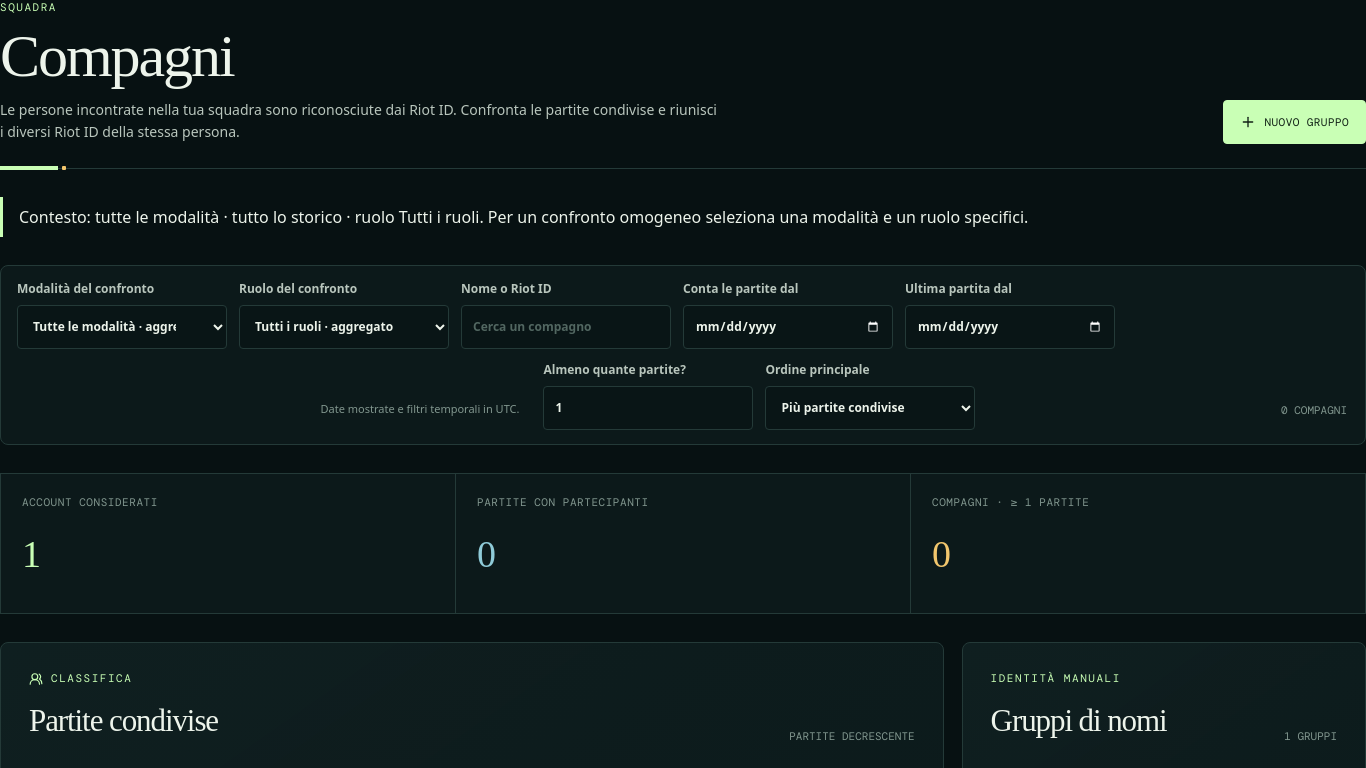
Scenario: risposte tardive dei gruppi › un errore precedente non compare nel nuovo modulo
The width and height of the screenshot is (1366, 768).
Click the button "Nuovo gruppo" at (1294, 122), box [1222,100,1365,144]
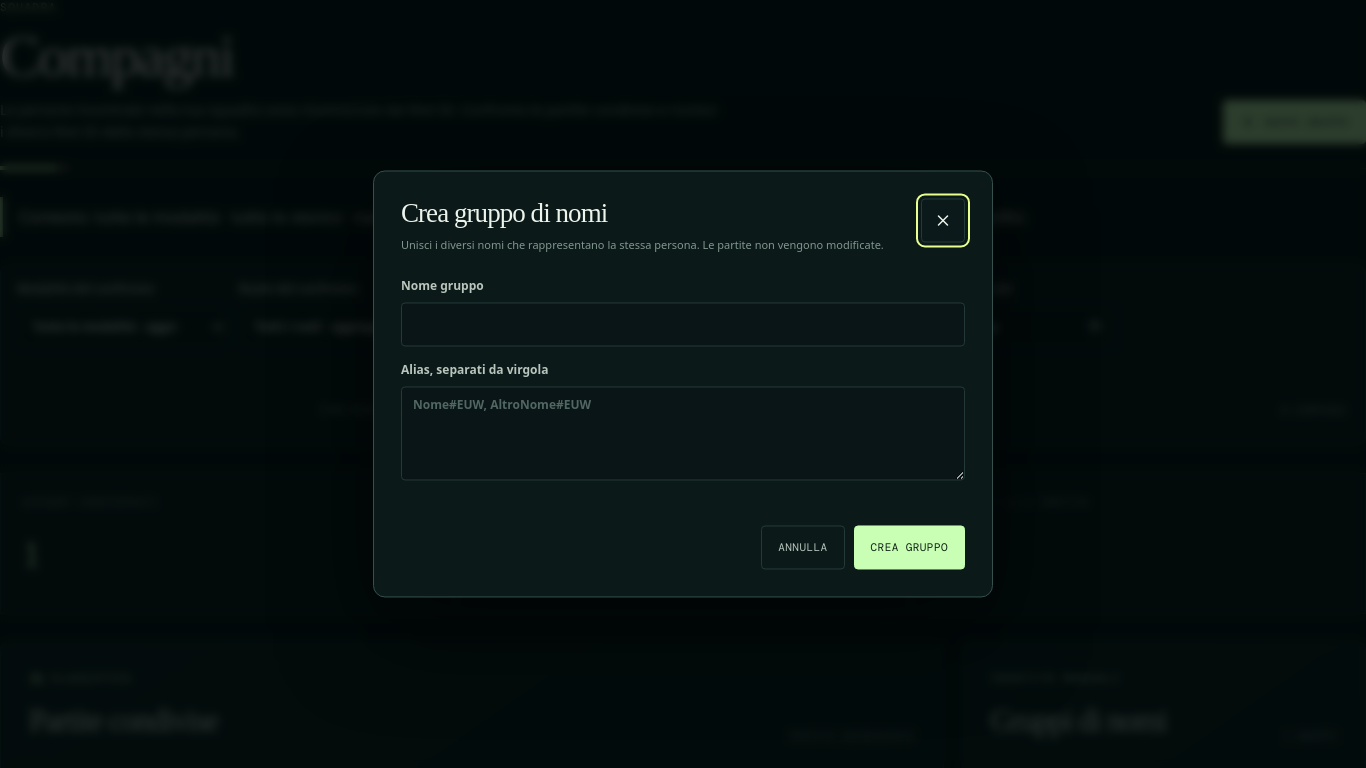
Type "Gruppo A" into the field labelled "Nome gruppo" at (683, 324), box [401,302,965,346]
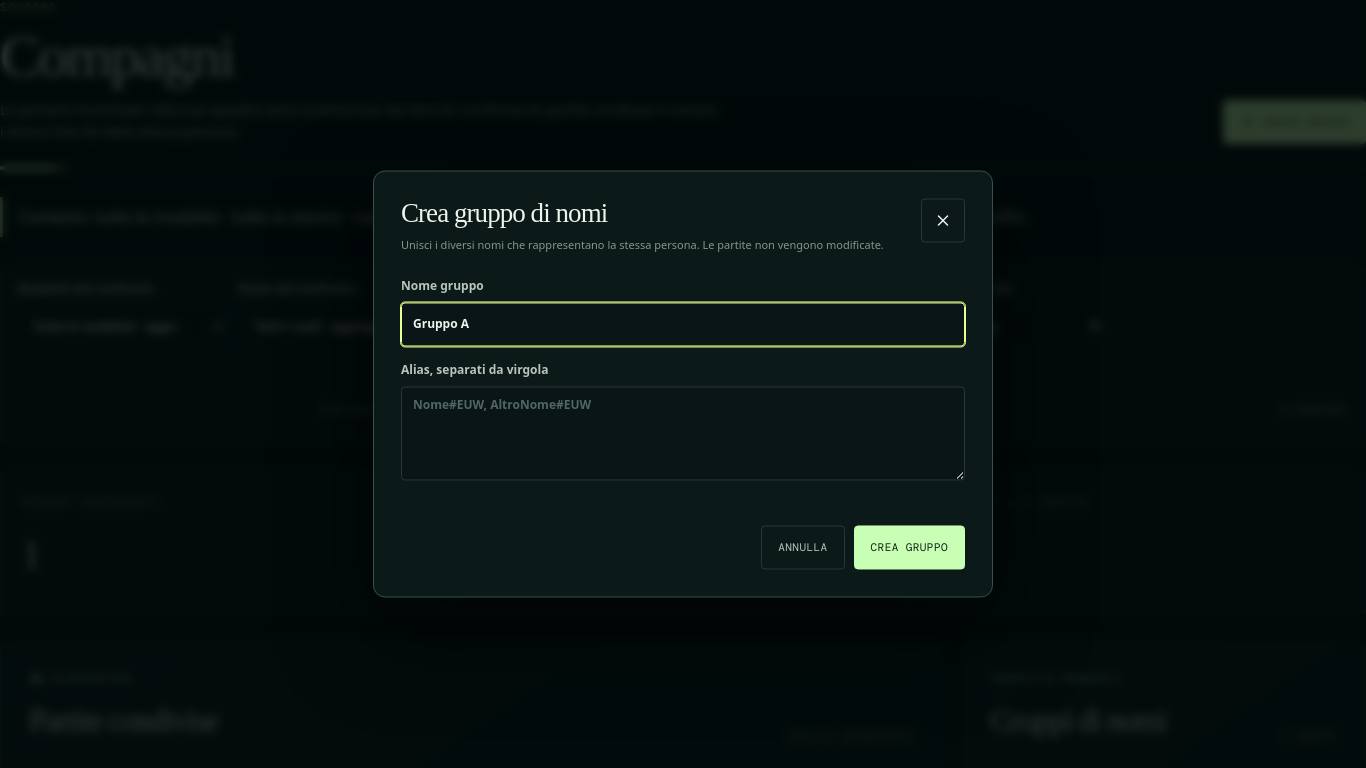
Type "A#EUW" into the text box labelled "Alias, separati da virgola" at (683, 434), box [401,386,965,480]
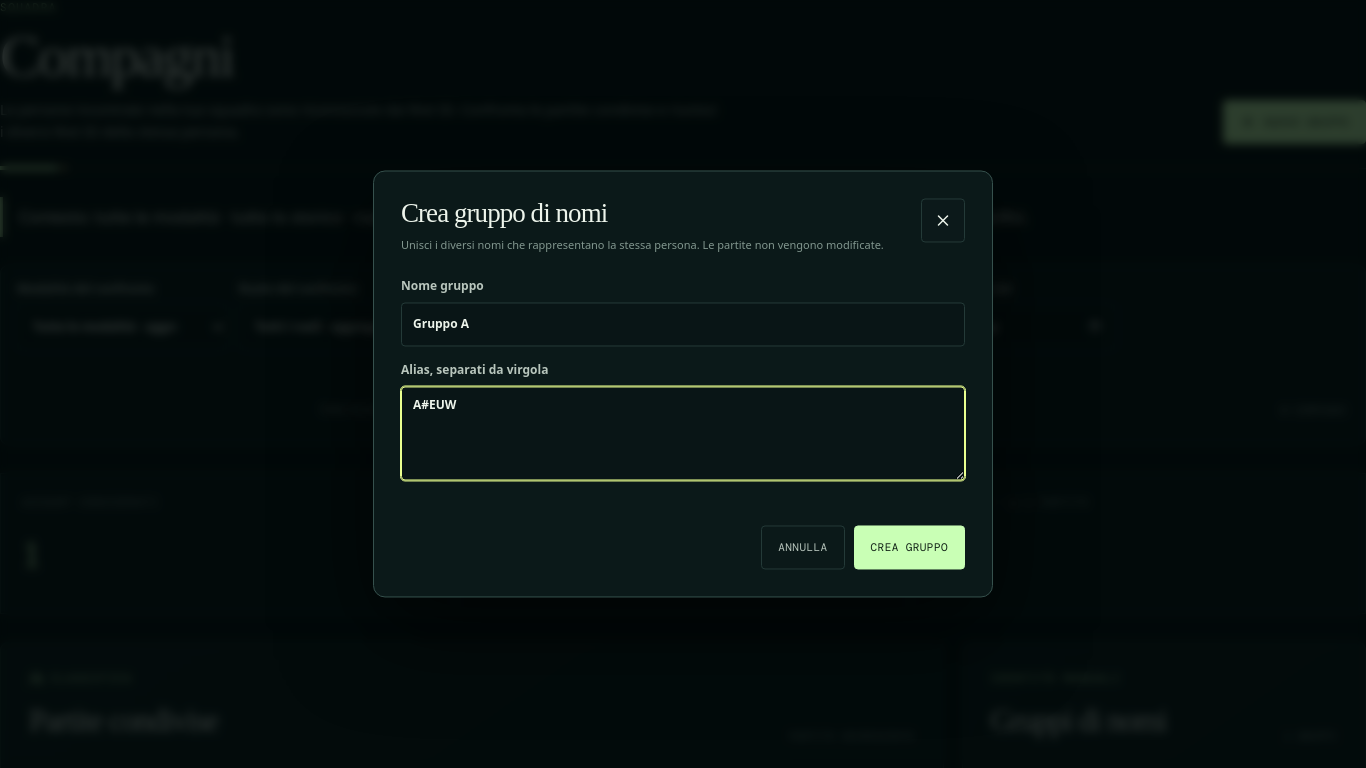
Click the button "Crea gruppo" at (909, 548), box [854,526,965,570]
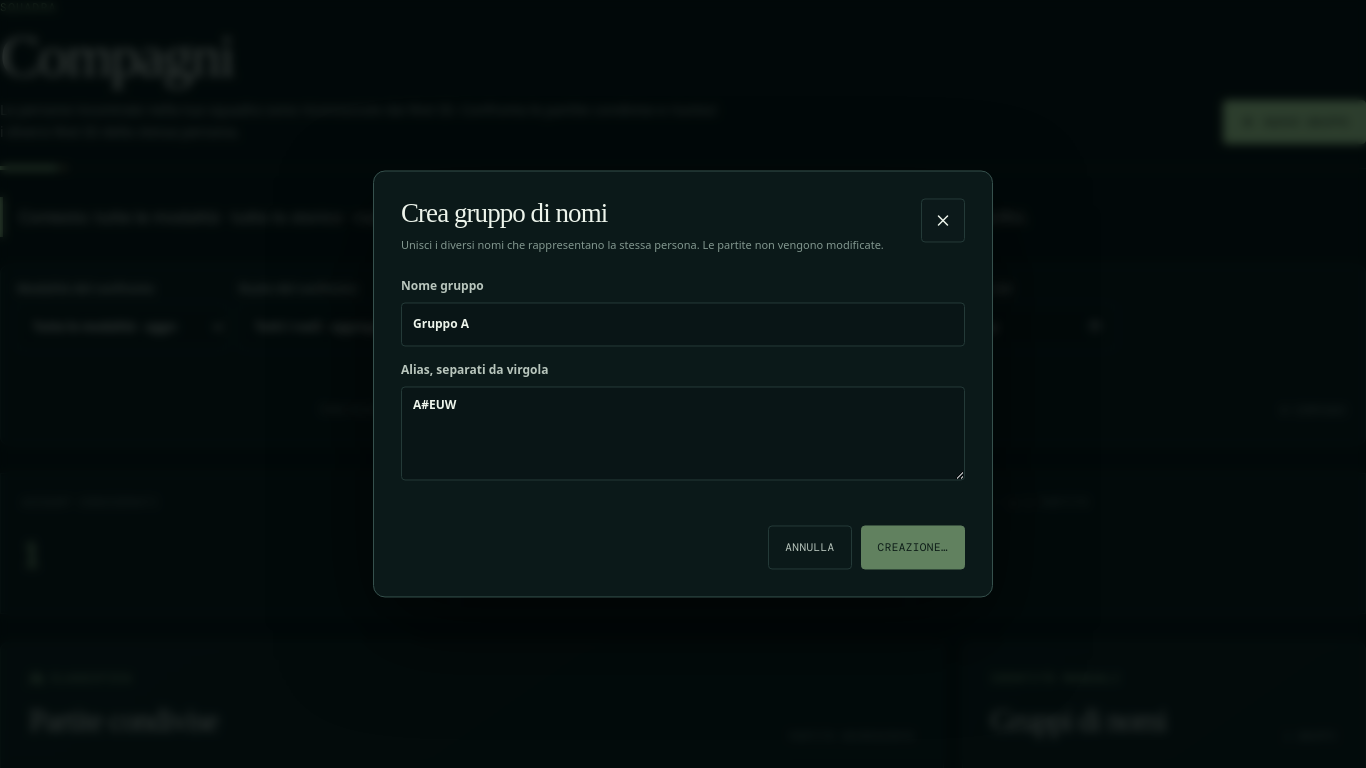
Click the button "Annulla" at (810, 548), box [768,526,852,570]
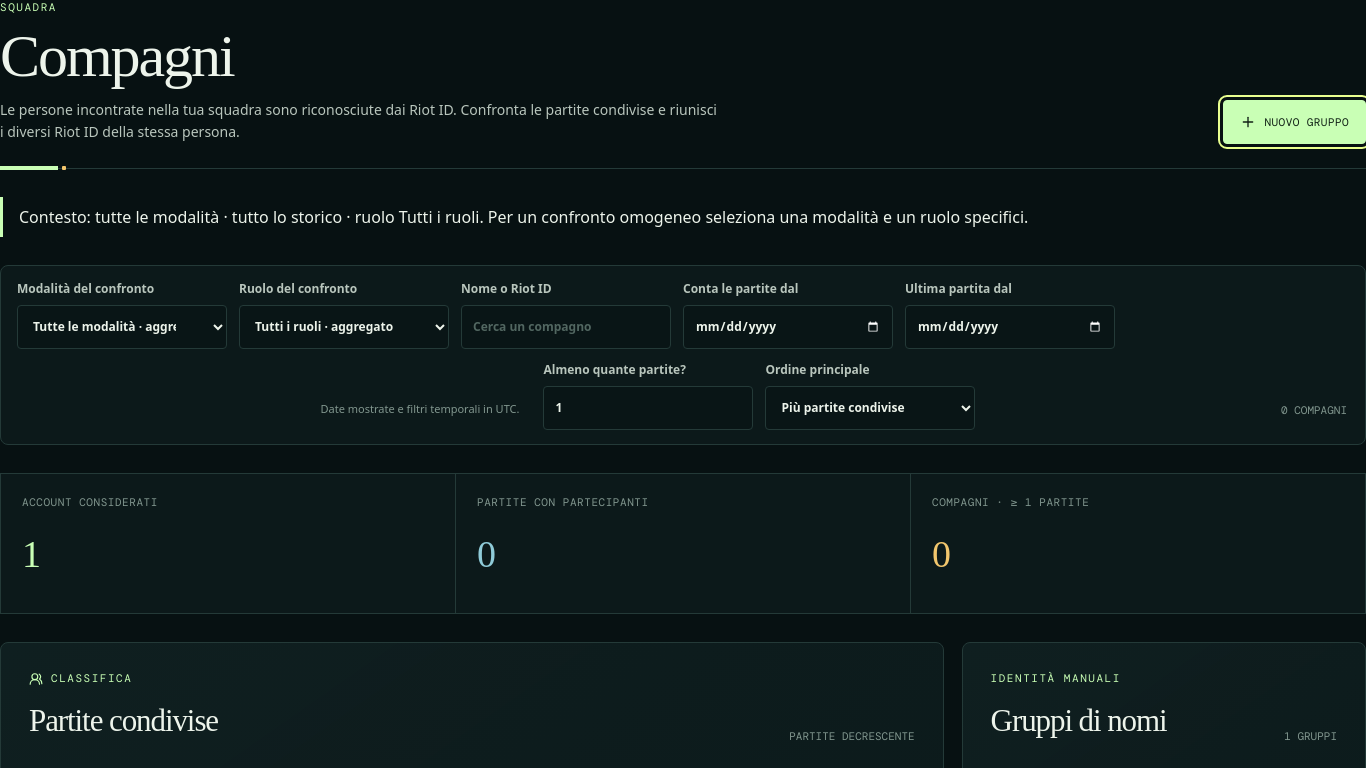
Click the button "Nuovo gruppo" at (1294, 122), box [1222,100,1365,144]
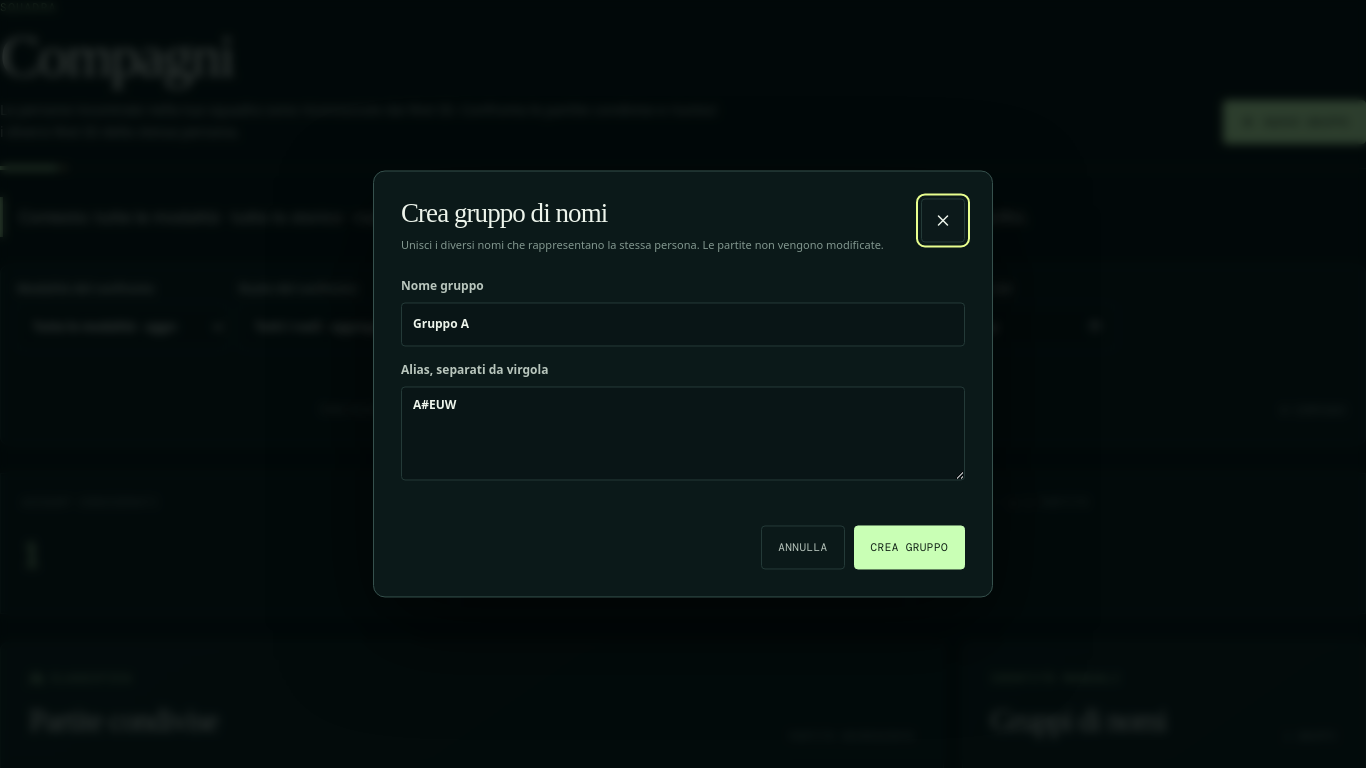
expect the dialog "Crea gruppo di nomi" is shown: met, box [373,170,993,598]
